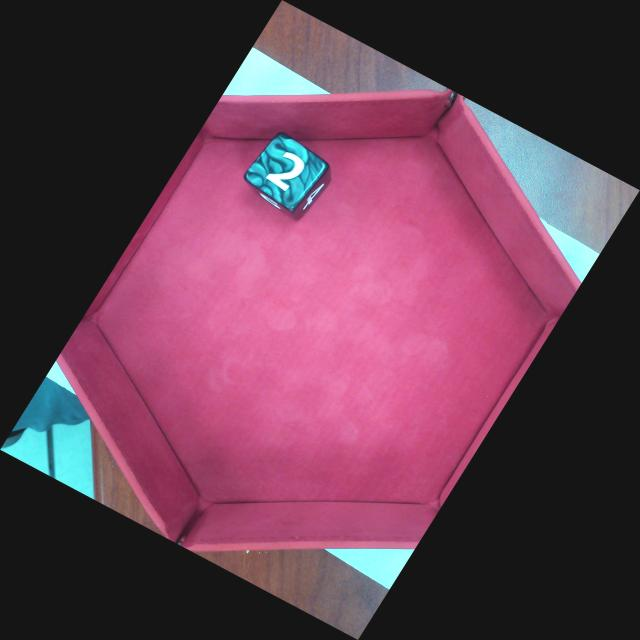dice: (245, 130, 329, 209)
